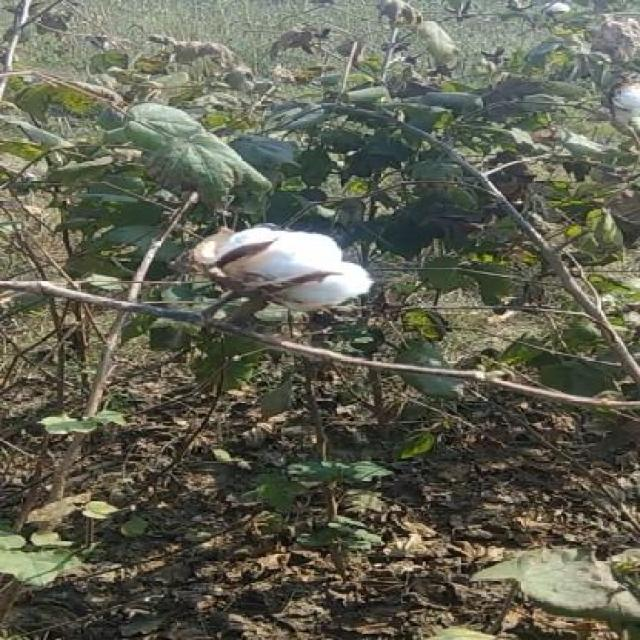cotton_ready: (171, 214, 374, 340)
